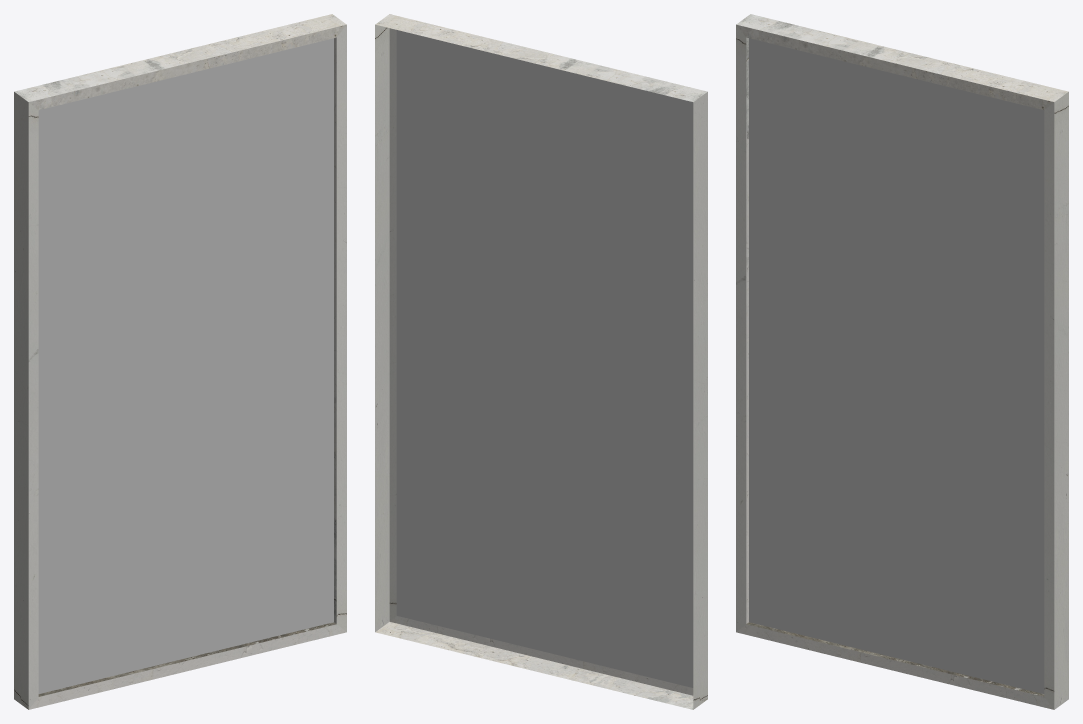
Rendered from window 11.FBX.
3 renders of one model, left to right at view 1: azimuth 30°, elevation 25°; view 2: azimuth 150°, elevation 25°; view 3: azimuth 330°, elevation 25°, orthographic.
Parts seen in each view (by area): view 1: Object133; view 2: Object133; view 3: Object133.
Part boxes in pixels (<box>): Object133: <box>14,14,346,709</box>; Object133: <box>375,14,707,709</box>; Object133: <box>736,14,1068,709</box>.
Bounding box in the file's own units: 1.9 × 3.47 × 0.15.
